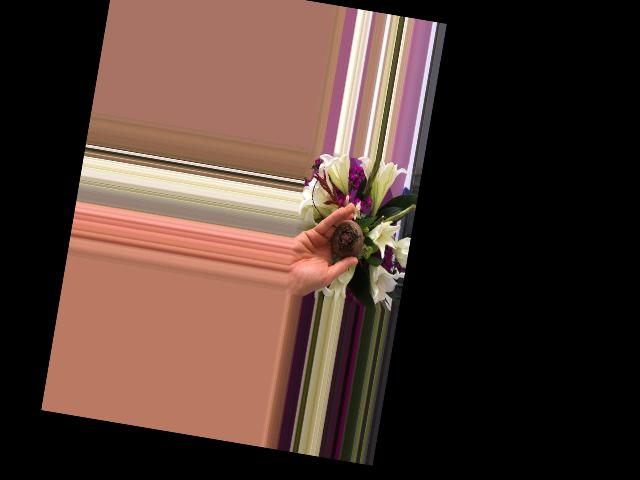beet: (328, 216, 366, 261)
